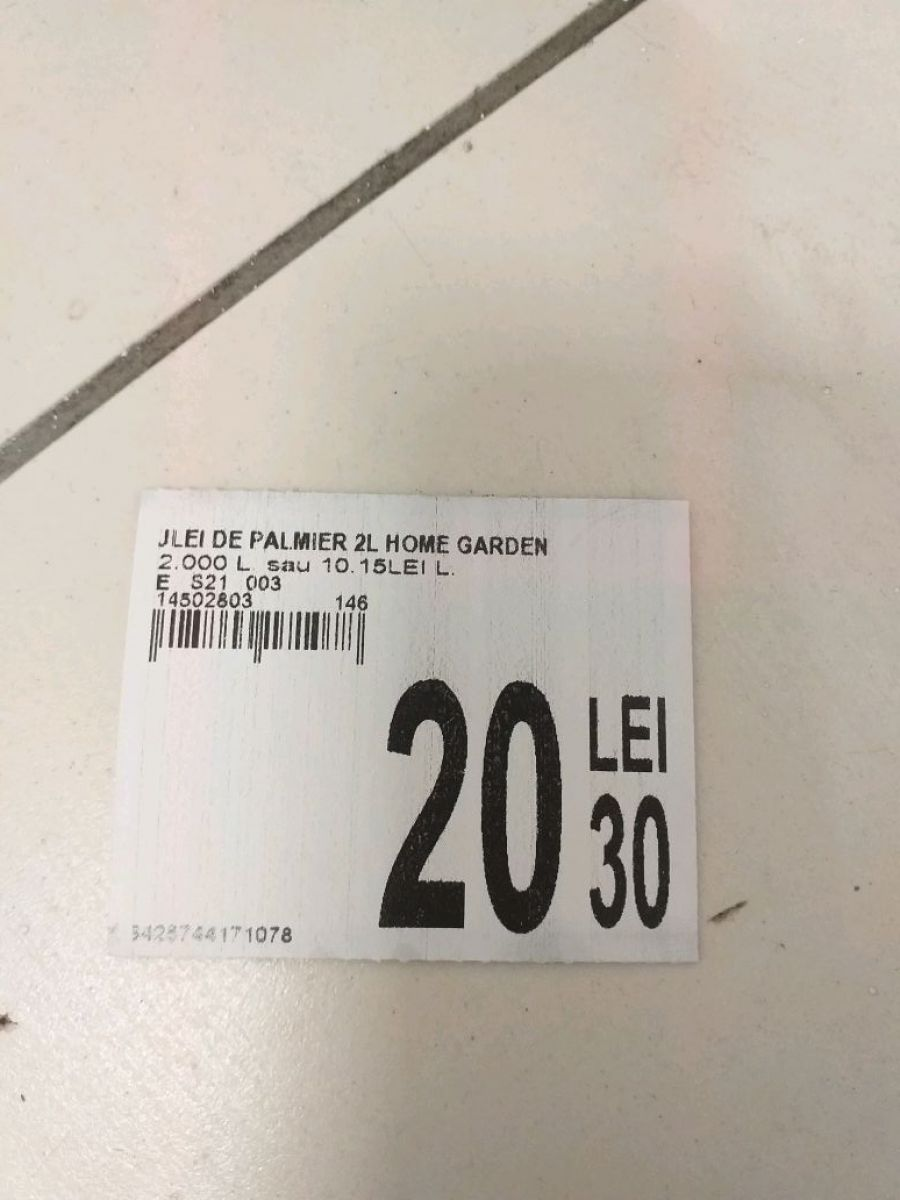price_bani: (578, 788, 689, 938)
price_lei: (365, 670, 578, 943)
price_tag: (90, 469, 729, 988)
product_id: (118, 910, 303, 952)
product_name: (148, 511, 563, 561)
